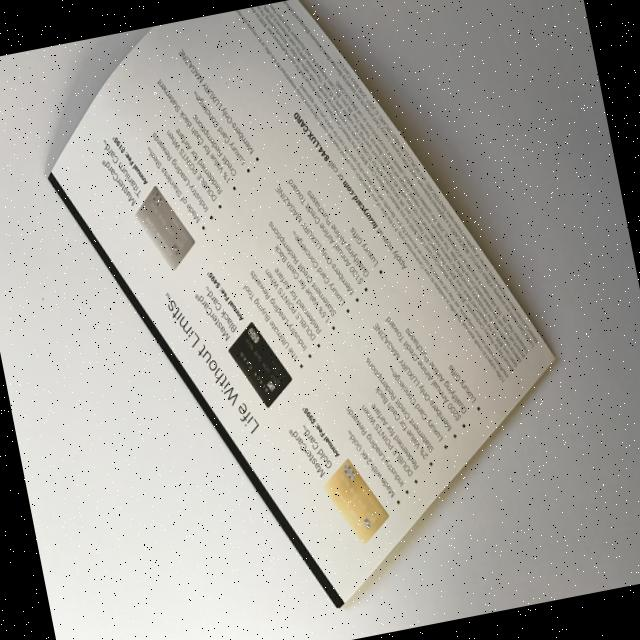paper: (22, 0, 595, 640)
